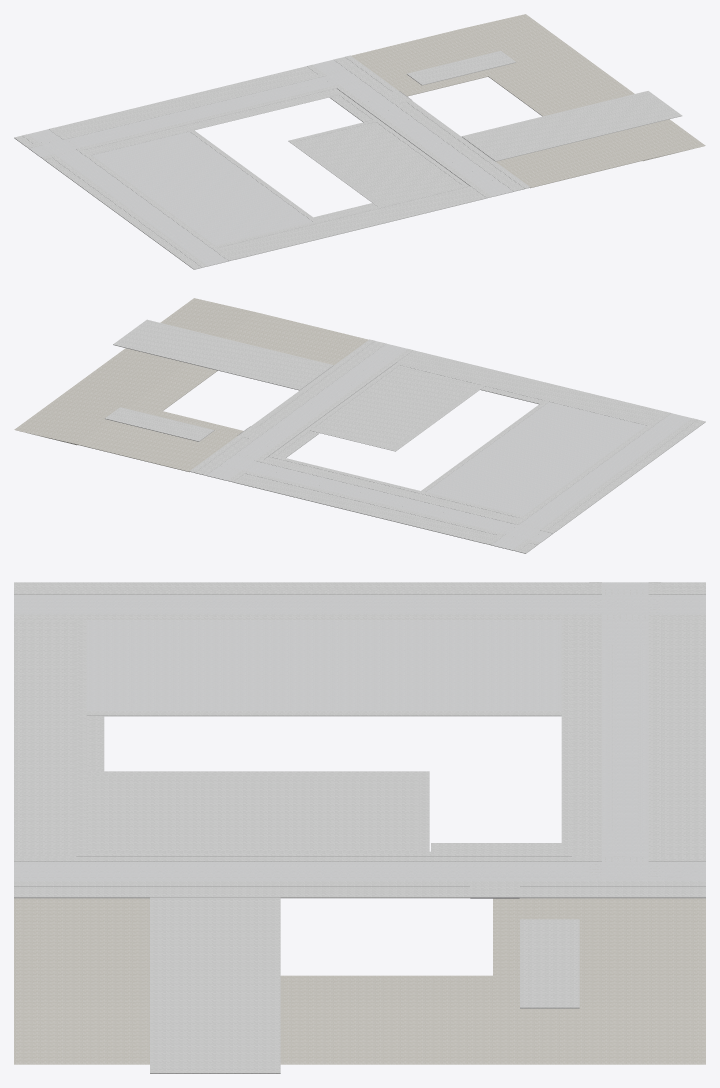
The model's file is Ground.fbx.
3 renders of one model, top to bottom at view 1: azimuth 30°, elevation 25°; view 2: azimuth 150°, elevation 25°; view 3: azimuth 270°, elevation 25°, orthographic. The views are drawn at different scales.
Visible parts, largest first — view 1: Ground; view 2: Ground; view 3: Ground.
Part boxes in pixels (bbox=[...]): Ground: bbox=[14, 14, 705, 269]; Ground: bbox=[14, 298, 705, 553]; Ground: bbox=[14, 582, 705, 1073].
Bounding box in the file's own units: 111000 × 300 × 66150.
